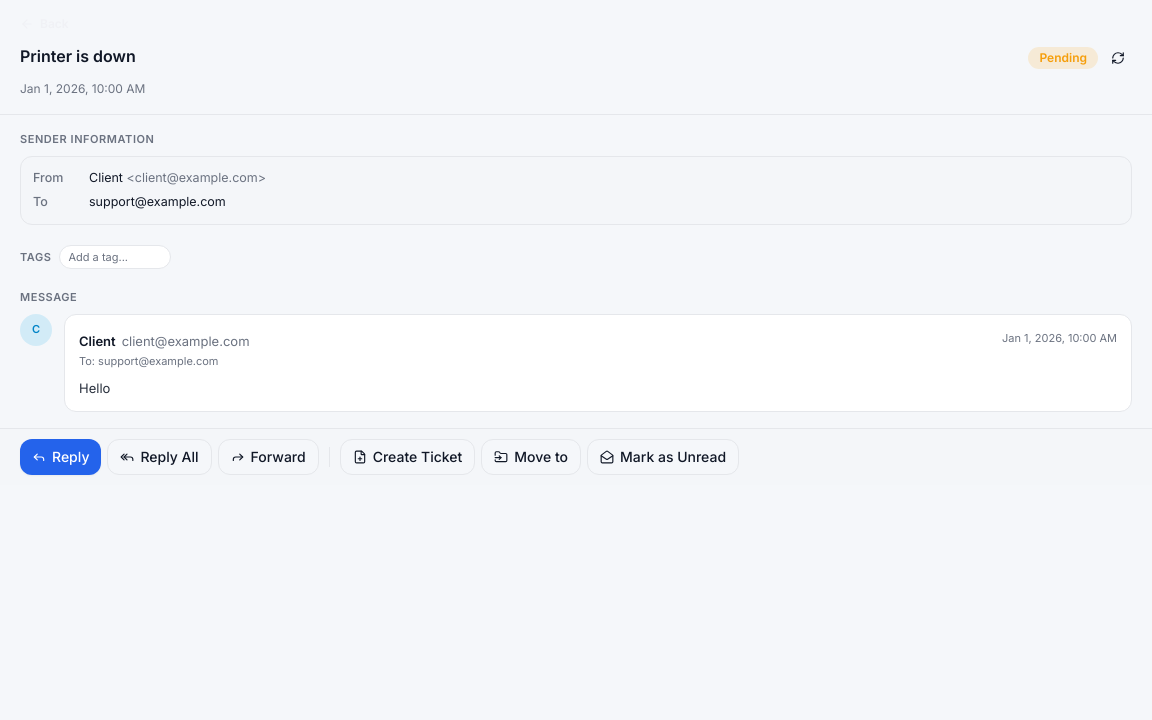
Test: Create Ticket dialog - Team Lead staff assignment › a Staff user (no groups) still only gets themselves - unchanged for other roles
Click the button "Create Ticket". click: (408, 457)
box: [340, 439, 475, 475]
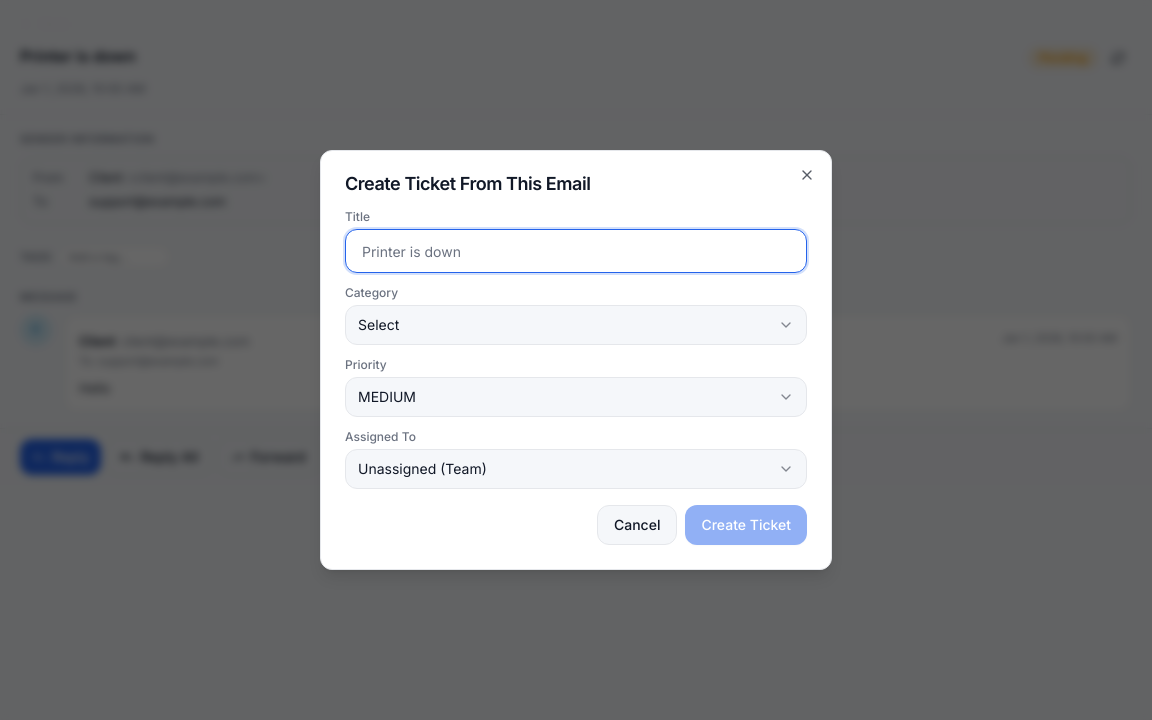
Click the dropdown labelled "Select". click: (379, 324)
box: [345, 305, 807, 345]
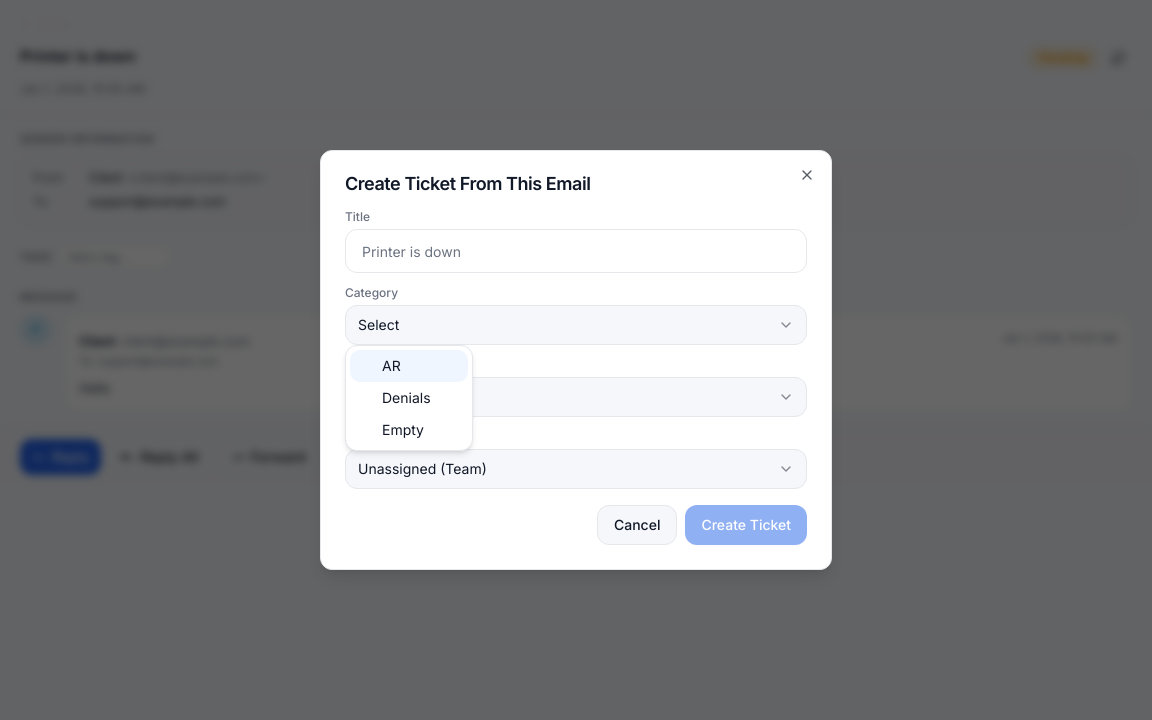
Click the option "AR". click: (409, 366)
box: [350, 350, 468, 382]
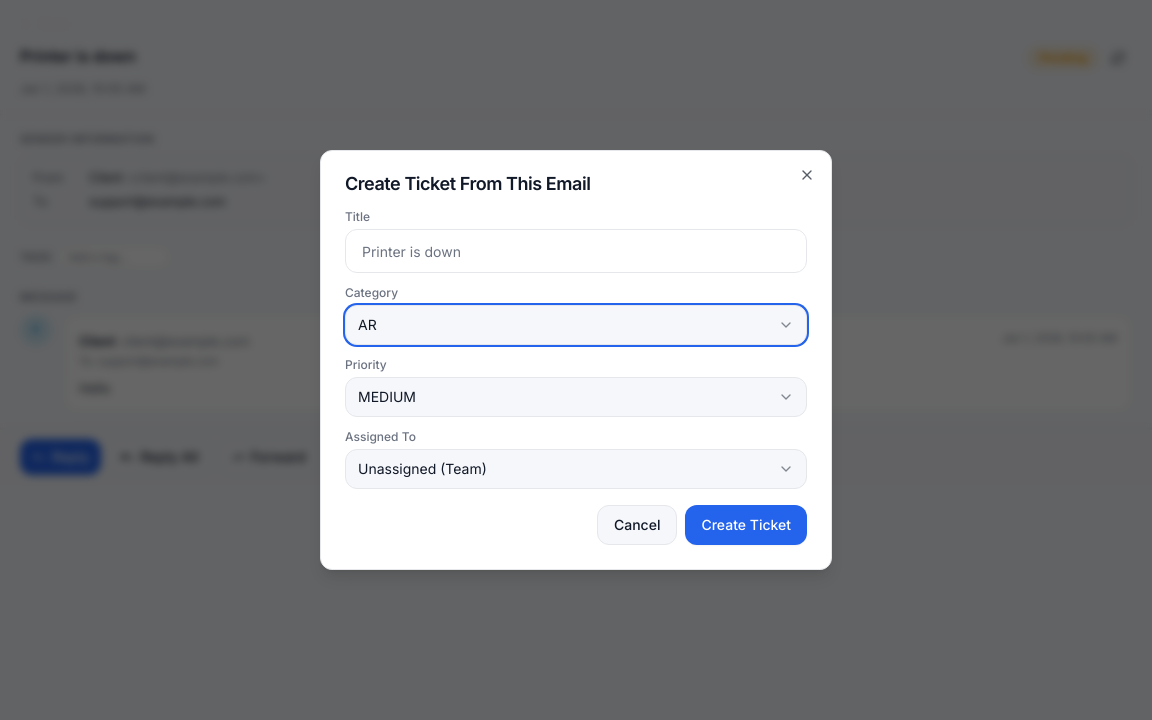
Click the dropdown labelled "Unassigned (Team)". click: (422, 468)
box: [345, 449, 807, 489]
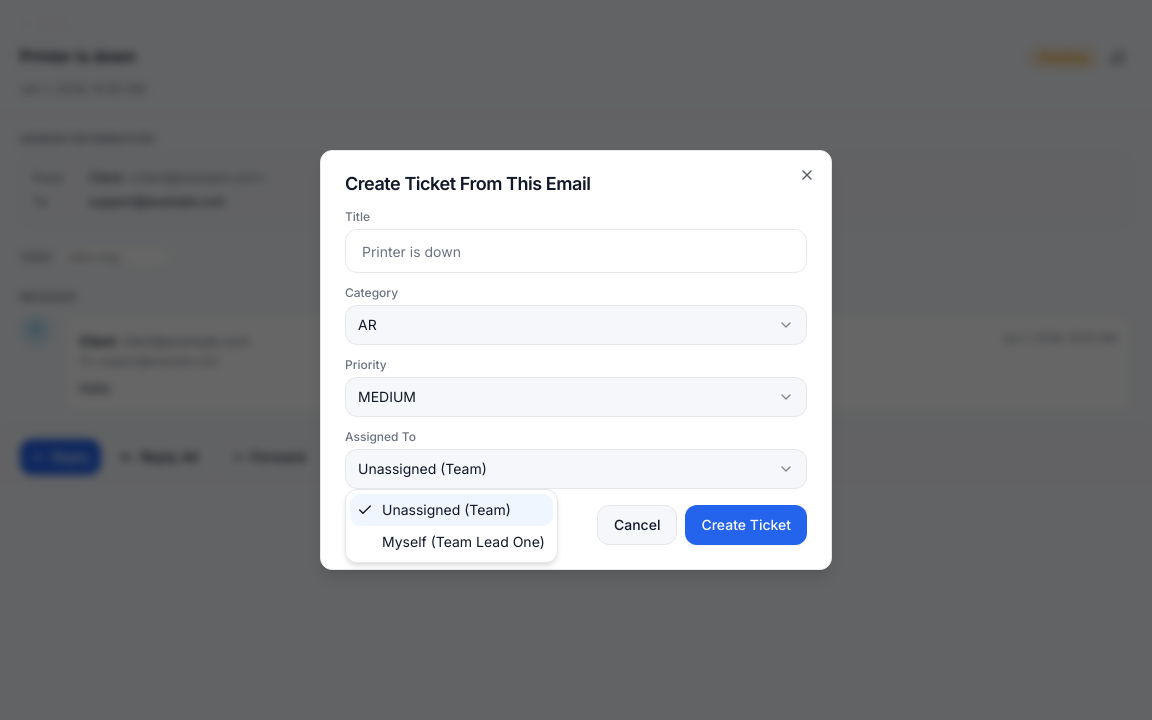
Now the options read "Unassigned (Team)", "Myself (Team Lead One)", in this order, box [350, 494, 553, 526]; [382, 533, 545, 550]
